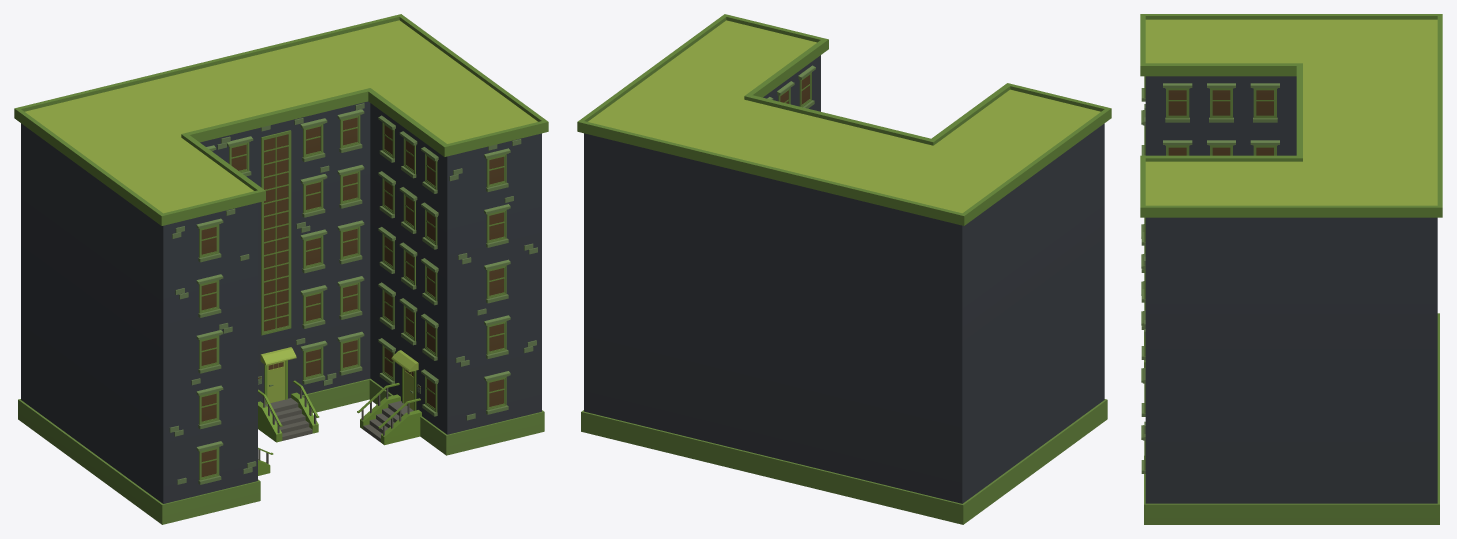
Rendered from House_32.fbx.
3 renders of one model, left to right at view 1: azimuth 30°, elevation 25°; view 2: azimuth 150°, elevation 25°; view 3: azimuth 270°, elevation 25°, orthographic. The views are drawn at different scales.
Parts seen in each view (by area): view 1: House_32; view 2: House_32; view 3: House_32.
Boxes of the visible parts, x1,y1,x2,y2 form: House_32: (14,14,548,524); House_32: (577,14,1111,524); House_32: (1140,14,1442,524).
Size of the model in its own units: 20.44 by 15.68 by 13.49.
